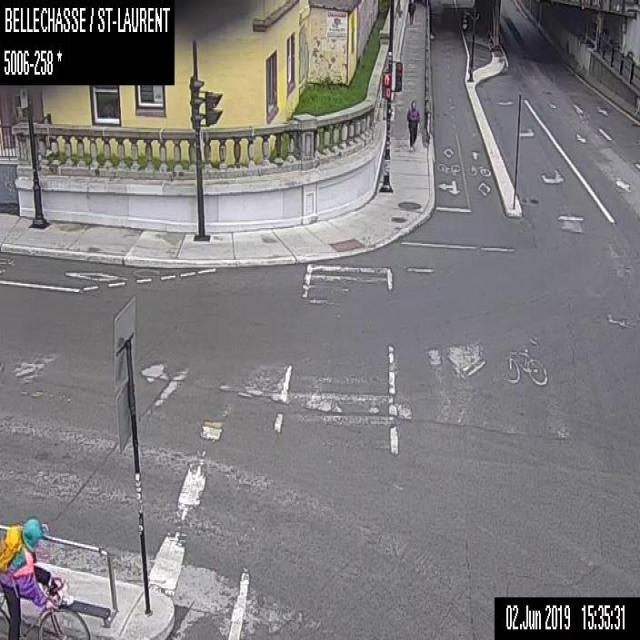cyclist: (0, 516, 90, 639)
pedestrian: (406, 98, 419, 150), (407, 0, 415, 23)
